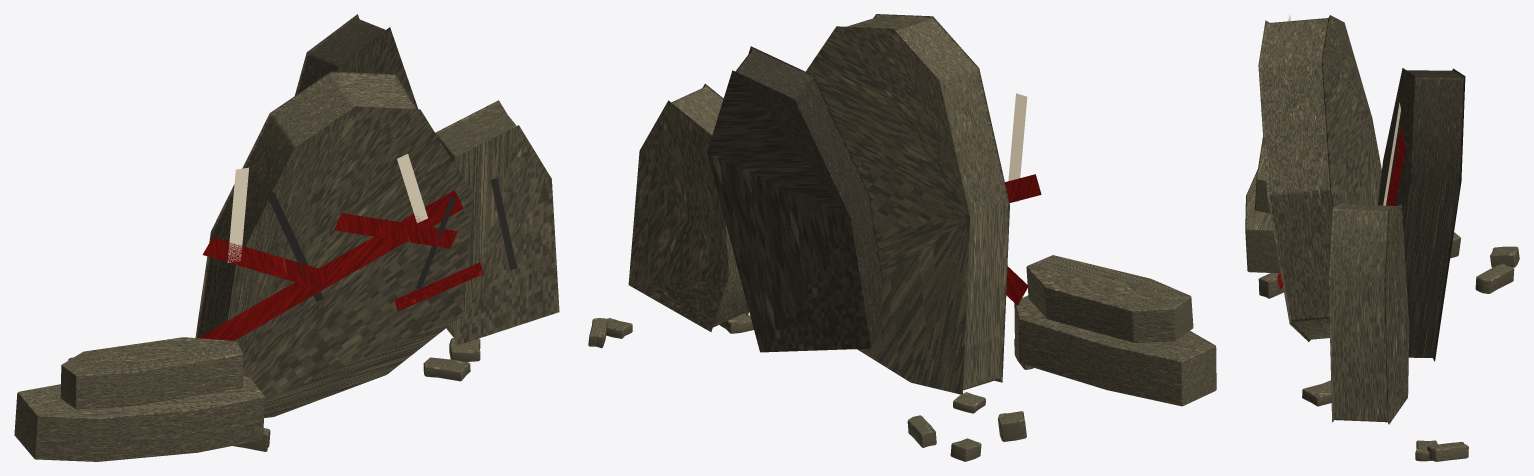
File: SM_GIA_BloodAxeCairnSlabCluster_A01_FinalTrial_LOD2.fbx
The picture shows the model from 3 angles, left to right: view 1: azimuth 30°, elevation 25°; view 2: azimuth 150°, elevation 25°; view 3: azimuth 270°, elevation 25°; orthographic projection.
Visible parts, largest first — view 1: A1_FinalA01_CentralLeaningPaintedSlab.002, A1_FinalA01_RightUprightShard.002, A1_FinalA01_LeftFrontBrokenStack.002, A1_FinalA01_LeftFrontCapStone.002, A1_FinalA01_CentralPaint_LongDiagonal.002, A1_FinalA01_RearTallShard.002, A1_FinalA01_CentralPaint_CrossA.002, A1_FinalA01_CentralPaint_CrossB.002, A1_FinalA01_CentralStoneHighlightA.002, A1_FinalA01_CentralPaint_LowerBrokenTail.002, A1_Turnaround_Pebble_05.002, A1_FinalA01_CentralStoneHighlightB.002 (+4 smaller); view 2: A1_FinalA01_CentralLeaningPaintedSlab.002, A1_FinalA01_RearTallShard.002, A1_FinalA01_RightUprightShard.002, A1_FinalA01_LeftFrontBrokenStack.002, A1_FinalA01_LeftFrontCapStone.002, A1_FinalA01_CentralStoneHighlightA.002, A1_Turnaround_Pebble_06, A1_FinalA01_CentralPaint_CrossA.002, A1_Turnaround_Pebble_00.002; view 3: A1_FinalA01_CentralLeaningPaintedSlab.002, A1_FinalA01_RightUprightShard.002, A1_FinalA01_RearTallShard.002, A1_FinalA01_LeftFrontBrokenStack.002, A1_Turnaround_Pebble_00.002, A1_Turnaround_Pebble_08.002, A1_FinalA01_RearPaintSlash.002, A1_FinalA01_LeftFrontCapStone.002, A1_Turnaround_Pebble_05.002, A1_Turnaround_Pebble_04.001, A1_Turnaround_Pebble_03.001, A1_FinalA01_RearStoneHighlight.002 (+1 smaller).
Boxes of the visible parts, <box> form: A1_FinalA01_CentralLeaningPaintedSlab.002: <box>195,71,473,417</box>; A1_FinalA01_RightUprightShard.002: <box>435,100,559,345</box>; A1_FinalA01_LeftFrontBrokenStack.002: <box>14,376,265,461</box>; A1_FinalA01_LeftFrontCapStone.002: <box>60,337,243,409</box>; A1_FinalA01_CentralPaint_LongDiagonal.002: <box>201,190,463,340</box>; A1_FinalA01_RearTallShard.002: <box>295,14,417,108</box>; A1_FinalA01_CentralPaint_CrossA.002: <box>202,237,331,289</box>; A1_FinalA01_CentralPaint_CrossB.002: <box>334,213,457,248</box>; A1_FinalA01_CentralStoneHighlightA.002: <box>227,167,248,262</box>; A1_FinalA01_CentralPaint_LowerBrokenTail.002: <box>394,262,483,311</box>; A1_Turnaround_Pebble_05.002: <box>423,357,470,381</box>; A1_FinalA01_CentralStoneHighlightB.002: <box>397,154,427,223</box>; A1_FinalA01_CentralLeaningPaintedSlab.002: <box>805,14,1009,394</box>; A1_FinalA01_RearTallShard.002: <box>707,46,882,352</box>; A1_FinalA01_RightUprightShard.002: <box>628,83,748,331</box>; A1_FinalA01_LeftFrontBrokenStack.002: <box>1014,295,1216,406</box>; A1_FinalA01_LeftFrontCapStone.002: <box>1026,255,1193,343</box>; A1_FinalA01_CentralStoneHighlightA.002: <box>1008,93,1027,201</box>; A1_Turnaround_Pebble_06: <box>998,411,1026,441</box>; A1_FinalA01_CentralPaint_CrossA.002: <box>1005,174,1041,202</box>; A1_Turnaround_Pebble_00.002: <box>907,415,936,447</box>; A1_FinalA01_CentralLeaningPaintedSlab.002: <box>1258,15,1381,341</box>; A1_FinalA01_RightUprightShard.002: <box>1328,202,1409,424</box>; A1_FinalA01_RearTallShard.002: <box>1378,68,1465,361</box>; A1_FinalA01_LeftFrontBrokenStack.002: <box>1245,169,1280,273</box>; A1_Turnaround_Pebble_00.002: <box>1475,263,1514,293</box>; A1_Turnaround_Pebble_08.002: <box>1427,442,1468,461</box>; A1_FinalA01_RearPaintSlash.002: <box>1386,126,1405,205</box>; A1_FinalA01_LeftFrontCapStone.002: <box>1254,137,1270,213</box>; A1_Turnaround_Pebble_05.002: <box>1302,380,1331,406</box>; A1_Turnaround_Pebble_04.001: <box>1490,246,1519,267</box>; A1_Turnaround_Pebble_03.001: <box>1258,273,1283,298</box>; A1_FinalA01_RearStoneHighlight.002: <box>1383,102,1400,205</box>.
Size of the model in its own units: 13311 by 31399 by 17662.
